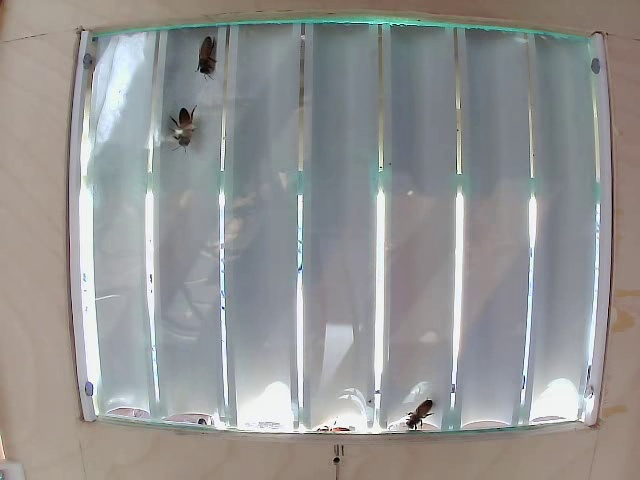bee: (166, 105, 216, 149), (190, 35, 227, 80)
